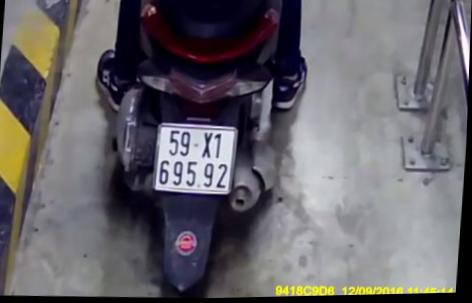LP: (152, 119, 241, 199)
